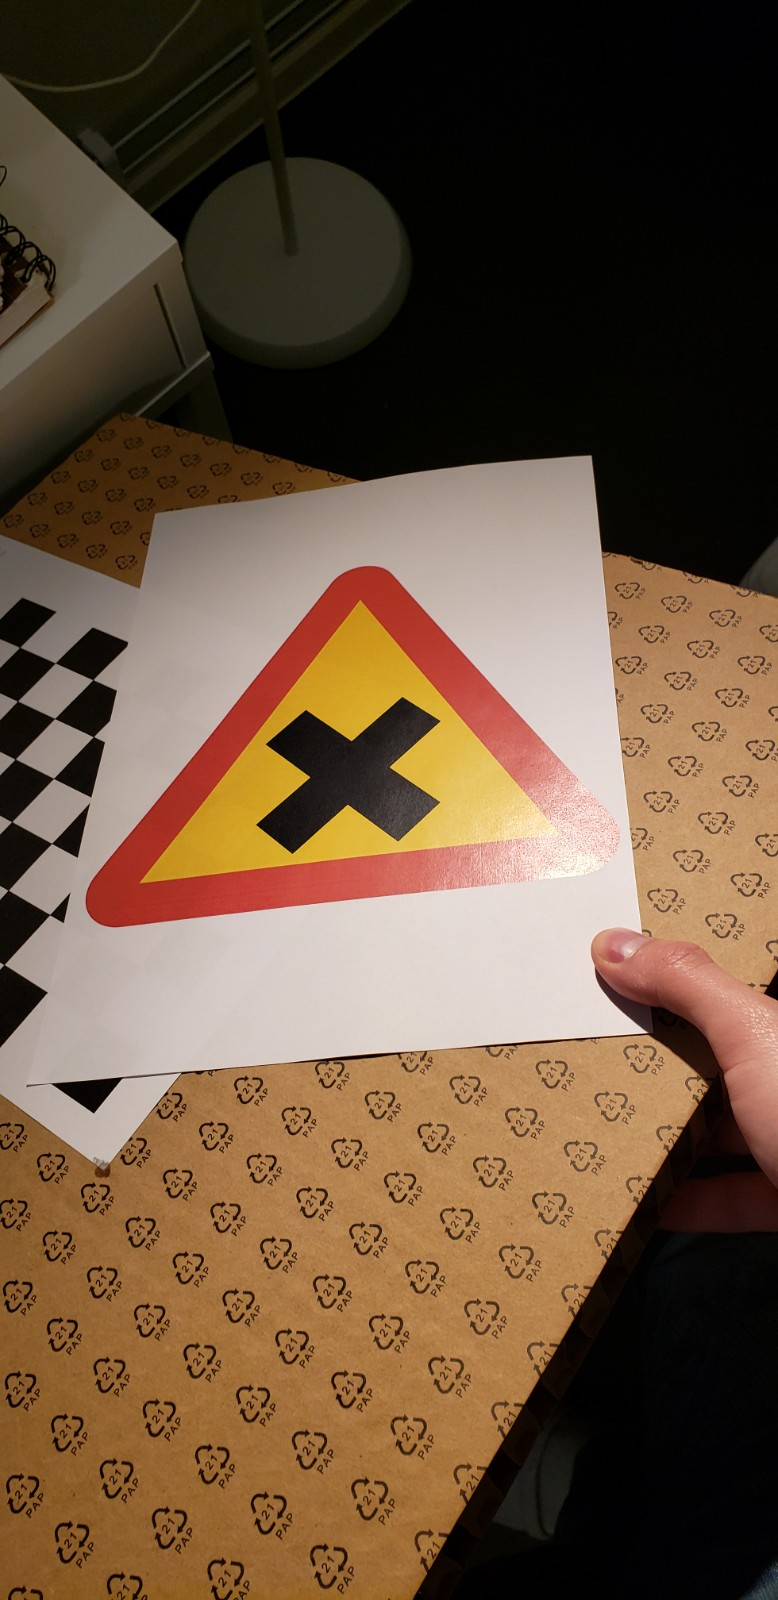junction: (86, 529, 627, 931)
